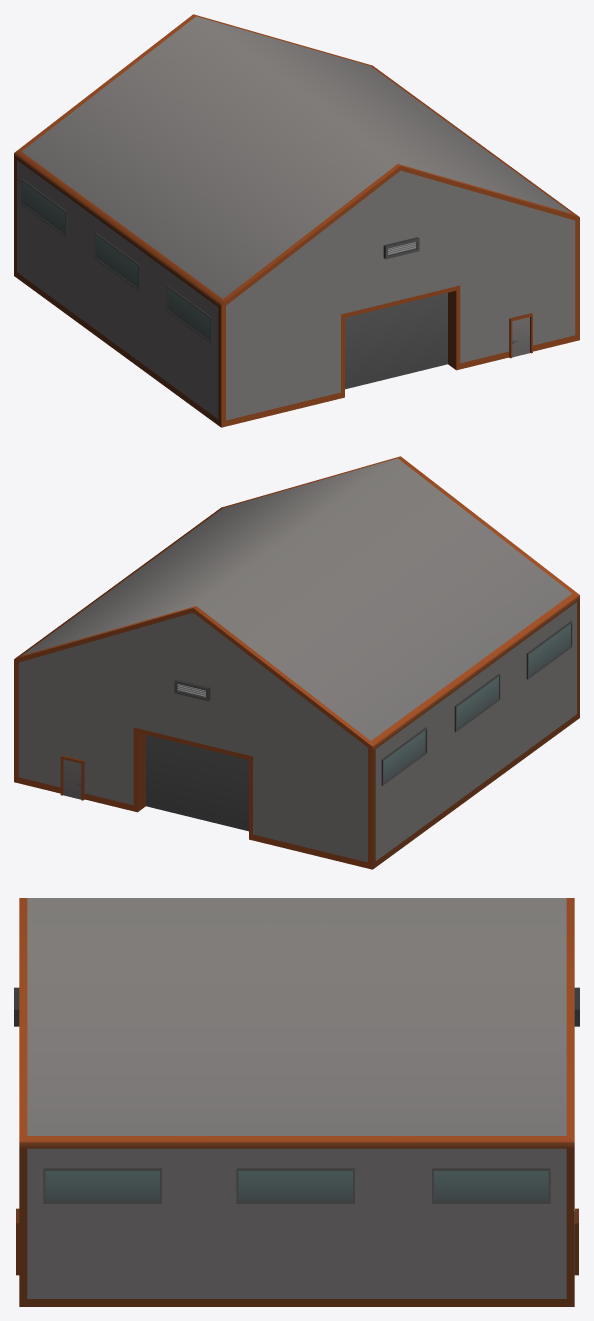
The model's file is Industrial_Warehouse_alt04.glb.
The picture shows the model from 3 angles, top to bottom: view 1: azimuth 30°, elevation 25°; view 2: azimuth 150°, elevation 25°; view 3: azimuth 270°, elevation 25°; orthographic projection. The views are drawn at different scales.
Parts seen in each view (by area): view 1: base.009, windowRefl.006; view 2: base.009, windowRefl.006; view 3: base.009, windowRefl.006.
Part boxes in pixels (<box>): base.009: <box>14,14,579,427</box>; windowRefl.006: <box>23,182,210,340</box>; base.009: <box>14,456,579,869</box>; windowRefl.006: <box>383,624,570,782</box>; base.009: <box>14,898,579,1306</box>; windowRefl.006: <box>45,1171,548,1201</box>.
Size of the model in its own units: 23.51 by 13.59 by 23.81.
